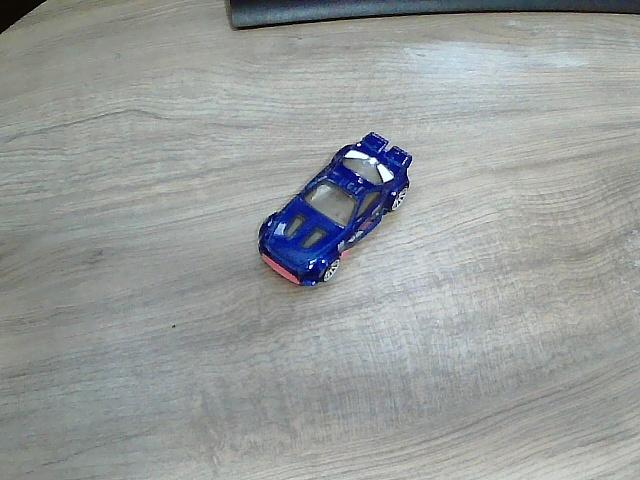Carro: (258, 133, 414, 286)
